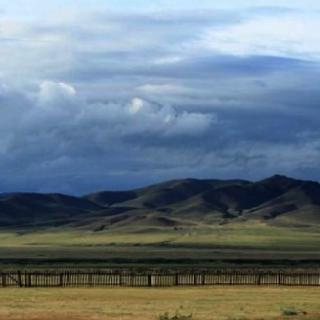Nimbostratus: (0, 0, 320, 167)
